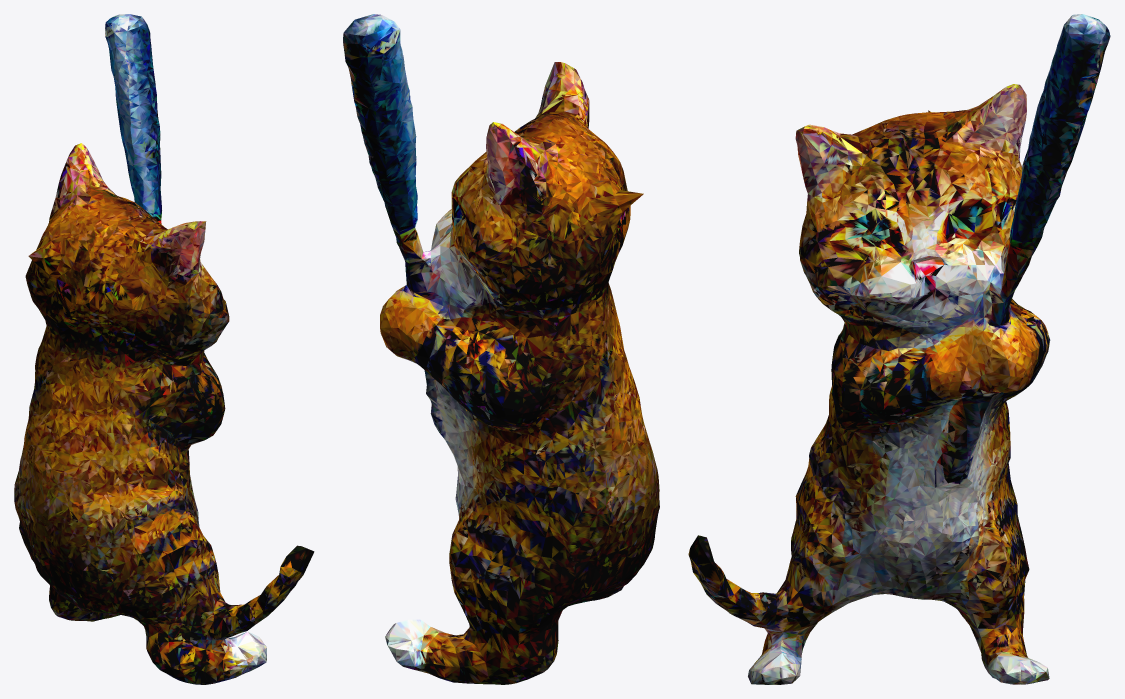
Rendered from cat_baseball-normal.glb.
The picture shows the model from 3 angles, left to right: view 1: azimuth 30°, elevation 25°; view 2: azimuth 150°, elevation 25°; view 3: azimuth 270°, elevation 25°; orthographic projection. The views are drawn at different scales.
Parts seen in each view (by area): view 1: extracted_mesh; view 2: extracted_mesh; view 3: extracted_mesh.
Boxes of the visible parts, box(x1,y1,x2,y2) form: extracted_mesh: box(14, 14, 314, 684); extracted_mesh: box(343, 14, 659, 684); extracted_mesh: box(688, 14, 1110, 684).
Size of the model in its own units: 0.3995 by 1.1 by 0.6124.
Materials: 1 (1 with a texture image).
